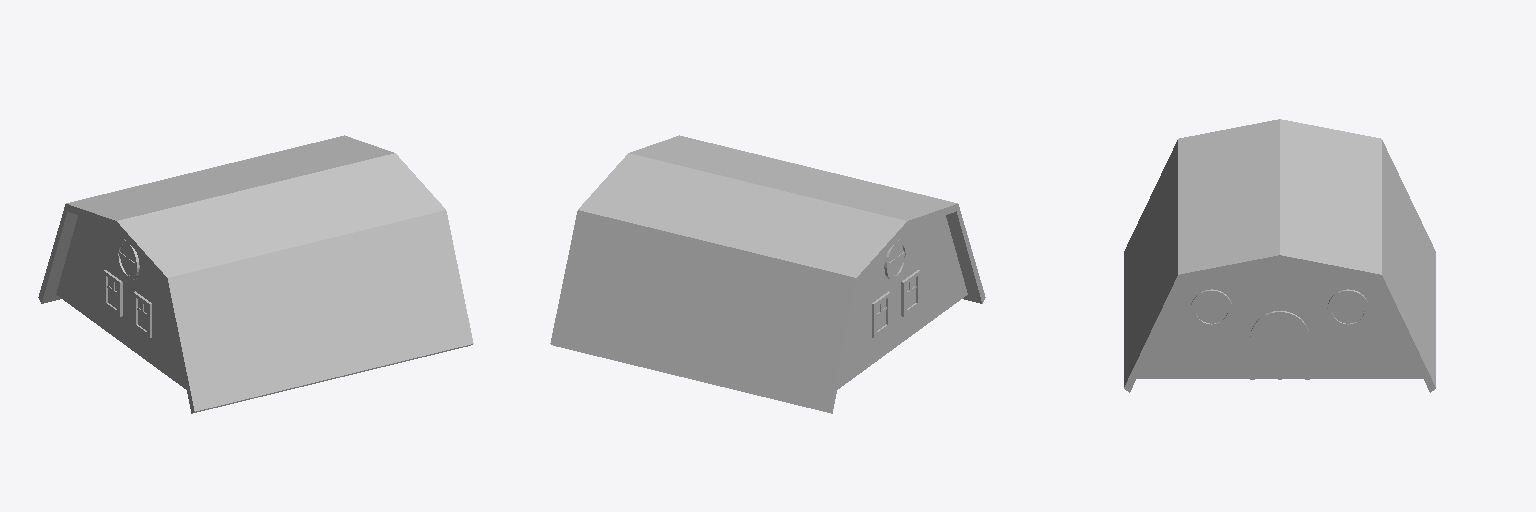
3 renders of one model, left to right at view 1: azimuth 30°, elevation 25°; view 2: azimuth 150°, elevation 25°; view 3: azimuth 270°, elevation 25°, orthographic.
Parts seen in each view (by area): view 1: roof_barn_5, roof_barn_6, window_detail_double_11, window_round_detail_12; view 2: roof_barn_6, roof_barn_5, window_detail_double_11, window_round_detail_12; view 3: roof_barn_5, roof_barn_6, door_rounded_wide_7, window_round_detail_8, window_round_detail_9.
Part boxes in pixels (x1,y1,x2,y2): roof_barn_5: (117,153,473,413); roof_barn_6: (38,135,393,347); window_detail_double_11: (104,270,151,337); window_round_detail_12: (116,239,139,280); roof_barn_6: (550,153,906,413); roof_barn_5: (630,135,985,347); window_detail_double_11: (872,270,919,337); window_round_detail_12: (884,239,907,280); roof_barn_5: (1124,119,1279,392); roof_barn_6: (1280,119,1435,392); door_rounded_wide_7: (1250,311,1309,379); window_round_detail_8: (1191,289,1232,327); window_round_detail_9: (1327,289,1368,327).
Bounding box in the file's own units: 3.3 × 1.56 × 3.2.